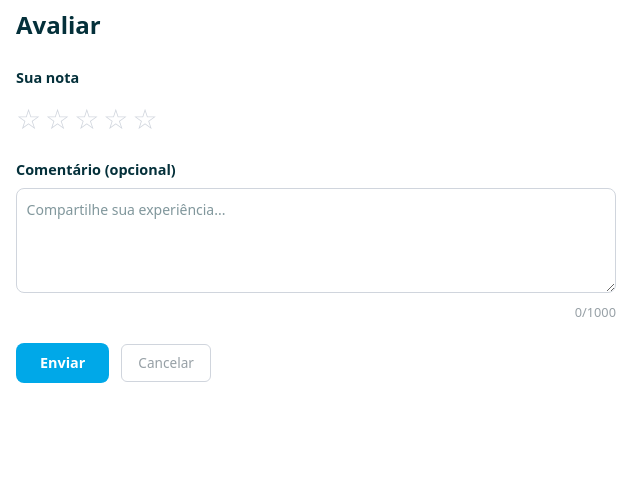
ReviewFormComponent › should show duplicate review message on 409 conflict
// Select rating and submit
Click the 4th button with test id "star-btn": (116, 118) [103,97,128,139]
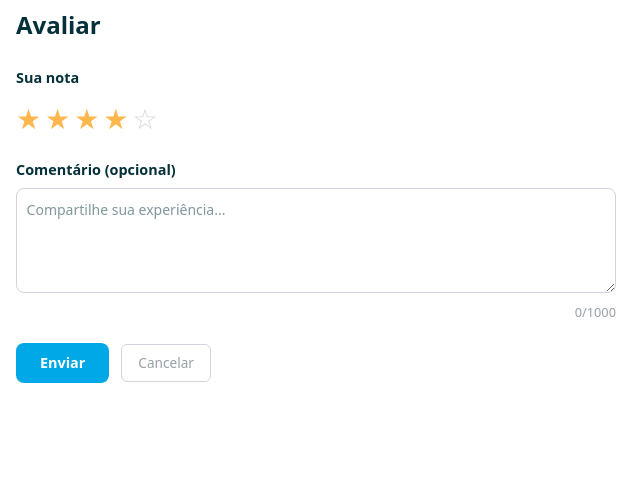
Click the button with test id "submit-btn": (63, 363) [16,343,109,383]
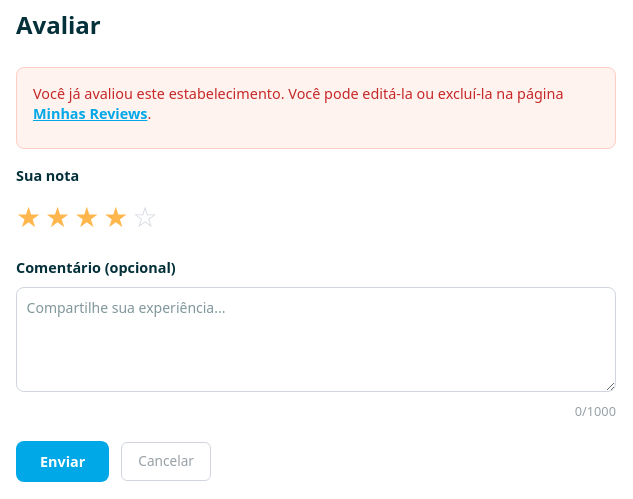
Expected: the element with test id "error-banner" is shown, [16,67,616,149]
Expected: the element with test id "error-409" is shown, [33,84,599,124]
Expected: the text "Você já avaliou este estabelecimento" is shown, [33,84,564,103]
